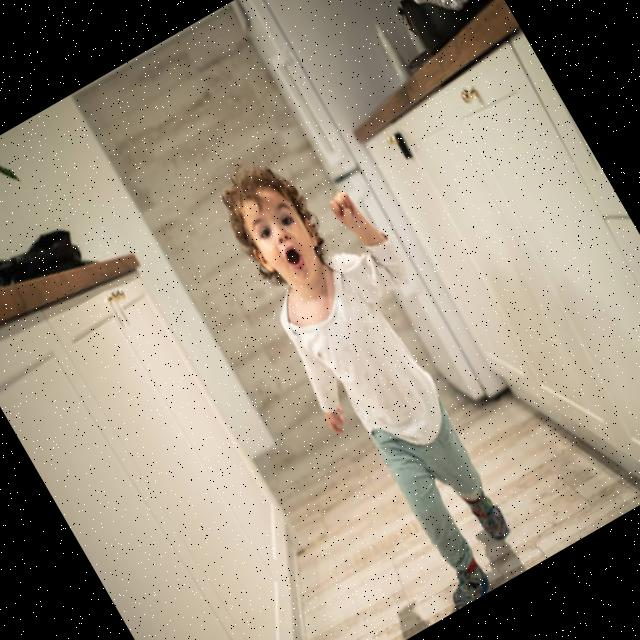Person: (200, 130, 568, 620)
